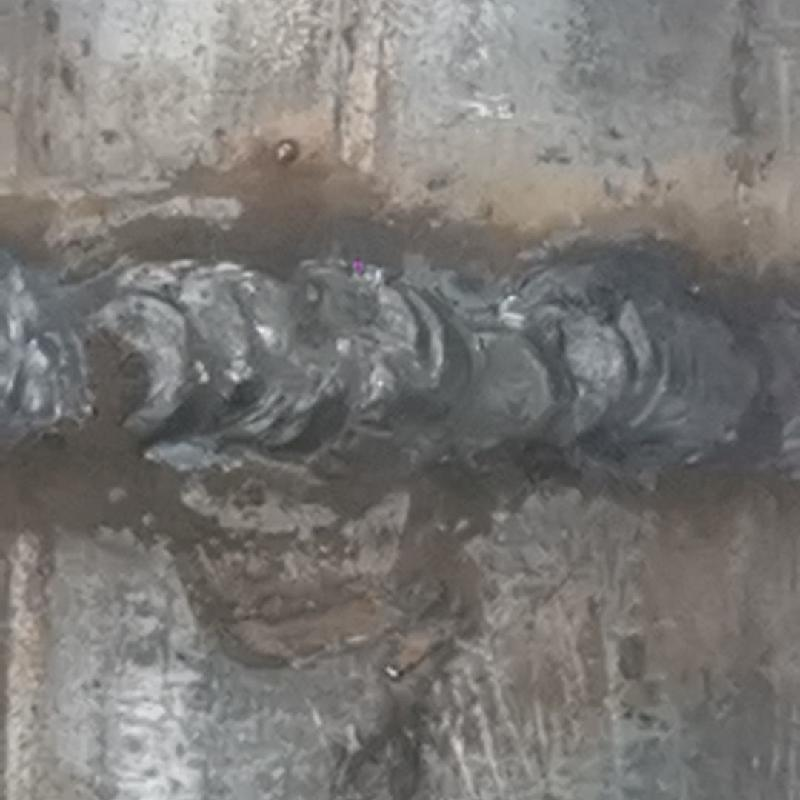good: (0, 238, 799, 483)
